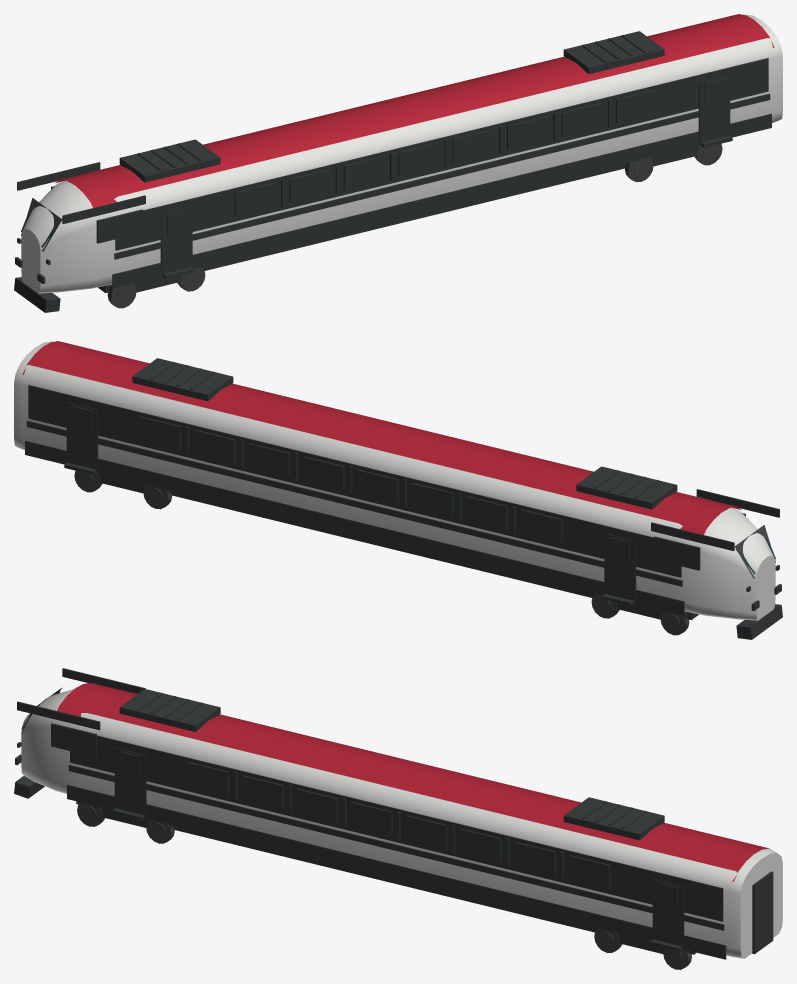
Rendered from railjet-classic-driving-trailer.glb.
The picture shows the model from 3 angles, top to bottom: view 1: azimuth 30°, elevation 25°; view 2: azimuth 150°, elevation 25°; view 3: azimuth 330°, elevation 25°; orthographic projection.
Parts seen in each view (by area): view 1: driving_trailer_lofted_body, driving_trailer_red_roof, driving_trailer_window_band_-1, driving_trailer_lower_skirt_-1, driving_trailer_red_belt_-1, driving_trailer_hvac_0, driving_trailer_hvac_1, driving_trailer_underframe_spine, driving_trailer_door_-1_0, driving_trailer_door_-1_1, driving_trailer_side_cab_window_-1, driving_trailer_window_-1_0 (+12 smaller); view 2: driving_trailer_lofted_body, driving_trailer_red_roof, driving_trailer_window_band_1, driving_trailer_lower_skirt_1, driving_trailer_red_belt_1, driving_trailer_hvac_0, driving_trailer_hvac_1, driving_trailer_underframe_spine, driving_trailer_door_1_0, driving_trailer_door_1_1, driving_trailer_bogie_b, driving_trailer_bogie_a (+12 smaller); view 3: driving_trailer_lofted_body, driving_trailer_red_roof, driving_trailer_window_band_-1, driving_trailer_lower_skirt_-1, driving_trailer_red_belt_-1, driving_trailer_hvac_1, driving_trailer_hvac_0, driving_trailer_underframe_spine, driving_trailer_door_-1_0, driving_trailer_door_-1_1, gangway_0.003, driving_trailer_side_cab_window_-1 (+12 smaller).
Boxes of the visible parts, x1=… form: driving_trailer_lofted_body: x1=21, y1=14, x2=782, y2=293; driving_trailer_red_roof: x1=55, y1=14, x2=774, y2=207; driving_trailer_window_band_-1: x1=115, y1=58, x2=768, y2=250; driving_trailer_lower_skirt_-1: x1=112, y1=113, x2=771, y2=288; driving_trailer_red_belt_-1: x1=114, y1=93, x2=770, y2=259; driving_trailer_hvac_0: x1=119, y1=139, x2=220, y2=182; driving_trailer_hvac_1: x1=563, y1=31, x2=664, y2=74; driving_trailer_underframe_spine: x1=204, y1=164, x2=625, y2=270; driving_trailer_door_-1_0: x1=160, y1=206, x2=192, y2=275; driving_trailer_door_-1_1: x1=698, y1=75, x2=730, y2=144; driving_trailer_side_cab_window_-1: x1=96, y1=209, x2=143, y2=243; driving_trailer_window_-1_0: x1=234, y1=182, x2=275, y2=216; driving_trailer_lofted_body: x1=14, y1=341, x2=775, y2=620; driving_trailer_red_roof: x1=22, y1=341, x2=741, y2=534; driving_trailer_window_band_1: x1=28, y1=385, x2=681, y2=577; driving_trailer_lower_skirt_1: x1=25, y1=440, x2=684, y2=615; driving_trailer_red_belt_1: x1=26, y1=420, x2=682, y2=586; driving_trailer_hvac_0: x1=576, y1=466, x2=677, y2=509; driving_trailer_hvac_1: x1=132, y1=358, x2=233, y2=401; driving_trailer_underframe_spine: x1=171, y1=491, x2=592, y2=597; driving_trailer_door_1_0: x1=604, y1=533, x2=636, y2=602; driving_trailer_door_1_1: x1=66, y1=402, x2=98, y2=471; driving_trailer_bogie_b: x1=74, y1=470, x2=171, y2=509; driving_trailer_bogie_a: x1=591, y1=593, x2=689, y2=635; driving_trailer_lofted_body: x1=21, y1=689, x2=782, y2=958; driving_trailer_red_roof: x1=57, y1=682, x2=769, y2=881; driving_trailer_window_band_-1: x1=70, y1=735, x2=723, y2=921; driving_trailer_lower_skirt_-1: x1=67, y1=784, x2=726, y2=959; driving_trailer_red_belt_-1: x1=68, y1=764, x2=724, y2=930; driving_trailer_hvac_1: x1=563, y1=797, x2=664, y2=840; driving_trailer_hvac_0: x1=119, y1=689, x2=220, y2=731; driving_trailer_underframe_spine: x1=174, y1=826, x2=595, y2=932; driving_trailer_door_-1_0: x1=114, y1=747, x2=146, y2=817; driving_trailer_door_-1_1: x1=652, y1=879, x2=684, y2=948; gangway_0.003: x1=752, y1=871, x2=773, y2=954; driving_trailer_side_cab_window_-1: x1=51, y1=723, x2=97, y2=757.
Bounding box in the file's own units: 26.65 × 4.29 × 3.35.
